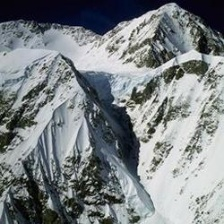neutral: (2, 5, 223, 224)
